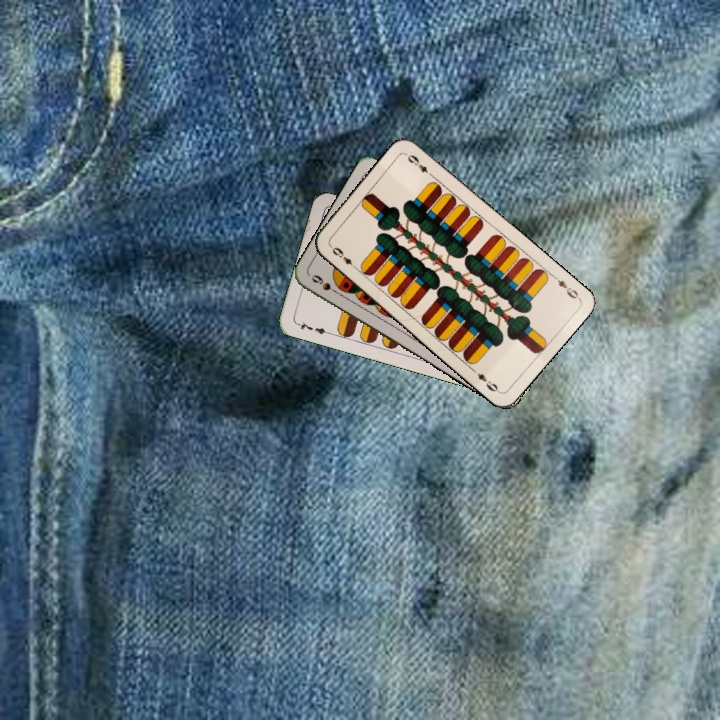E7: (293, 318, 332, 337)
E9: (548, 271, 582, 302), (326, 241, 359, 271)
S9: (307, 270, 344, 298)
